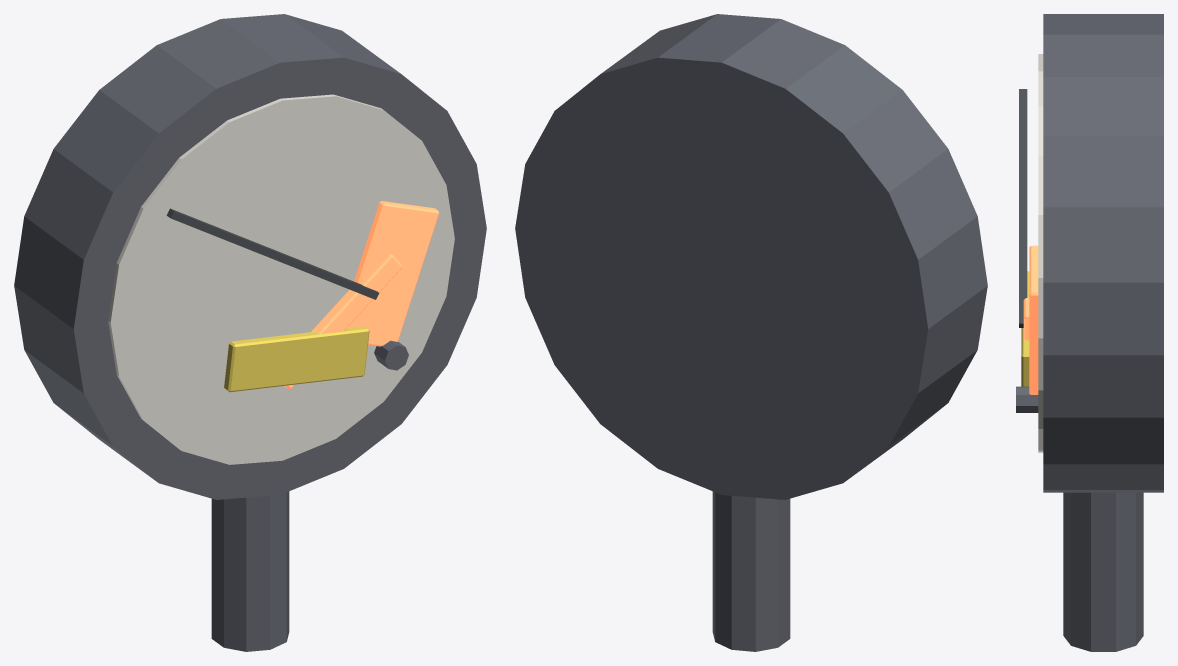
The model's file is prop_manometro_140.glb.
3 renders of one model, left to right at view 1: azimuth 30°, elevation 25°; view 2: azimuth 150°, elevation 25°; view 3: azimuth 270°, elevation 25°, orthographic.
Parts seen in each view (by area): view 1: Gauge_Face, Gauge_Housing, Gauge_PipeStem, Yellow_Tape_Cover, Gauge_RedZone, Glass_Crack, Gauge_Needle, Gauge_StopPin; view 2: Gauge_Housing, Gauge_PipeStem; view 3: Gauge_Housing, Gauge_PipeStem, Gauge_Face, Glass_Crack, Gauge_RedZone, Yellow_Tape_Cover, Gauge_StopPin, Gauge_Needle.
Boxes of the visible parts, box(x1,y1,x2,y2) form: Gauge_Face: box(108, 94, 454, 464); Gauge_Housing: box(14, 14, 486, 499); Gauge_PipeStem: box(211, 491, 289, 651); Yellow_Tape_Cover: box(224, 326, 369, 392); Gauge_RedZone: box(346, 201, 439, 346); Glass_Crack: box(166, 208, 379, 299); Gauge_Needle: box(284, 253, 402, 388); Gauge_StopPin: box(374, 340, 408, 370); Gauge_Housing: box(515, 14, 987, 499); Gauge_PipeStem: box(712, 491, 790, 651); Gauge_Housing: box(1043, 14, 1163, 492); Gauge_PipeStem: box(1063, 492, 1143, 651); Gauge_Face: box(1038, 54, 1043, 452); Glass_Crack: box(1019, 89, 1027, 327); Gauge_RedZone: box(1029, 245, 1038, 394); Yellow_Tape_Cover: box(1021, 271, 1029, 386); Gauge_StopPin: box(1016, 386, 1038, 412); Gauge_Needle: box(1023, 298, 1029, 340).
Bounding box in the file's own units: 0.48 × 0.66 × 0.147.
